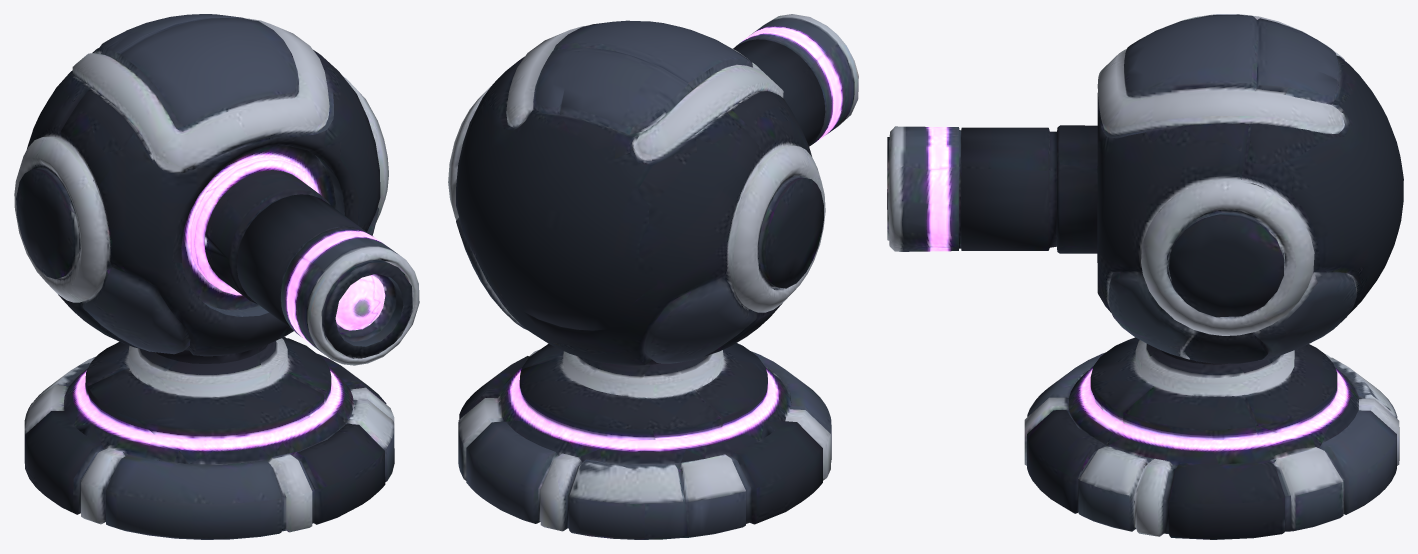
Rendered from warrior-4-tier-2.glb.
3 renders of one model, left to right at view 1: azimuth 30°, elevation 25°; view 2: azimuth 150°, elevation 25°; view 3: azimuth 270°, elevation 25°, orthographic.
Parts seen in each view (by area): view 1: moving-assembly, fixed-platform; view 2: moving-assembly, fixed-platform; view 3: moving-assembly, fixed-platform.
Boxes of the visible parts, x1,y1,x2,y2 form: moving-assembly: [14, 14, 419, 365]; fixed-platform: [24, 336, 394, 539]; moving-assembly: [448, 14, 858, 365]; fixed-platform: [458, 343, 831, 539]; moving-assembly: [887, 14, 1403, 364]; fixed-platform: [1024, 337, 1399, 539].
Bounding box in the file's own units: 0.5488 × 0.6946 × 0.7548.
1 material, 1 textured.
